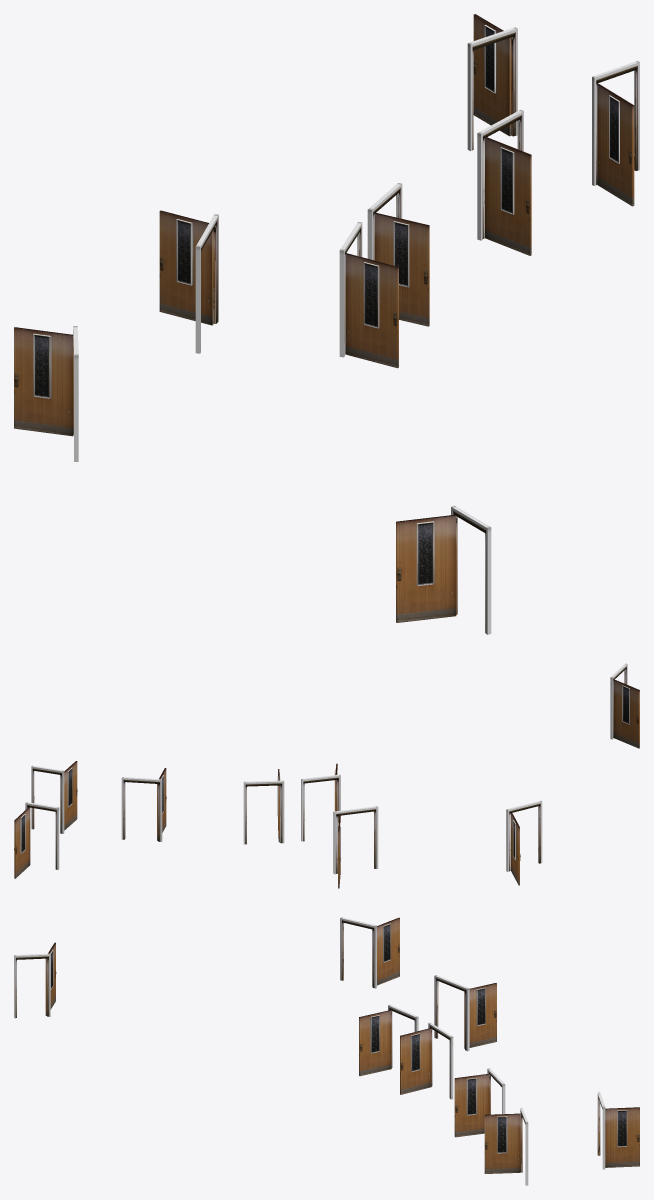
Rendered from SingleDoorOpen.FBX.
The picture shows the model from 3 angles, top to bottom: view 1: azimuth 30°, elevation 25°; view 2: azimuth 150°, elevation 25°; view 3: azimuth 270°, elevation 25°; orthographic projection. The views are drawn at different scales.
Visible parts, largest first — view 1: Object021; view 2: Object021; view 3: Object021.
Part boxes in pixels (bbox=[...]): Object021: bbox=[14, 14, 639, 634]; Object021: bbox=[14, 663, 639, 888]; Object021: bbox=[14, 917, 639, 1185].
Size of the model in its own units: 1750 by 246 by 2212.
